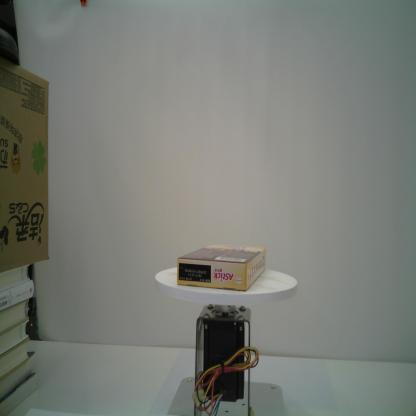Dessert: (172, 242, 267, 292)
